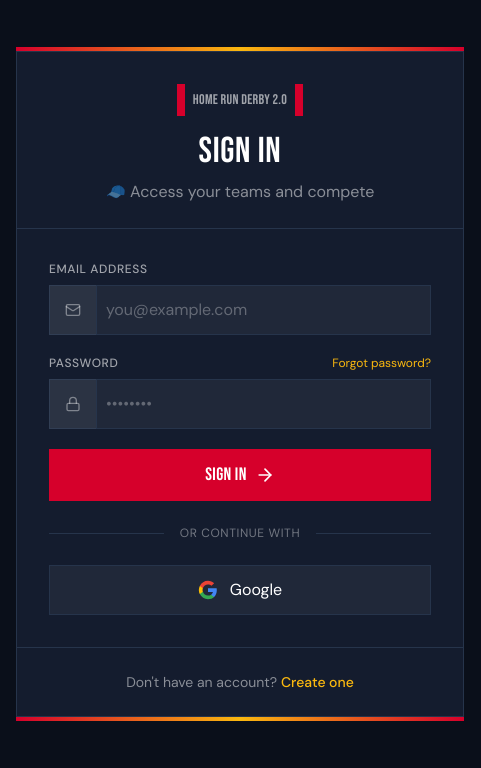
Scenario: Login Page › Login Submission › displays error message on login failure
Type "test@example.com" into the field labelled "Email Address".
click(240, 310); type("test@example.com")  # box [49, 285, 431, 335]
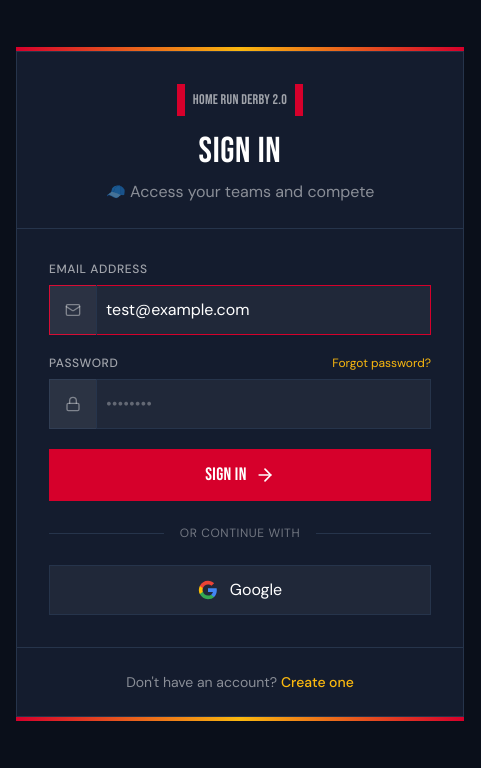
Type "wrongpassword" into the password field labelled "Password".
click(240, 404); type("wrongpassword")  # box [49, 379, 431, 429]
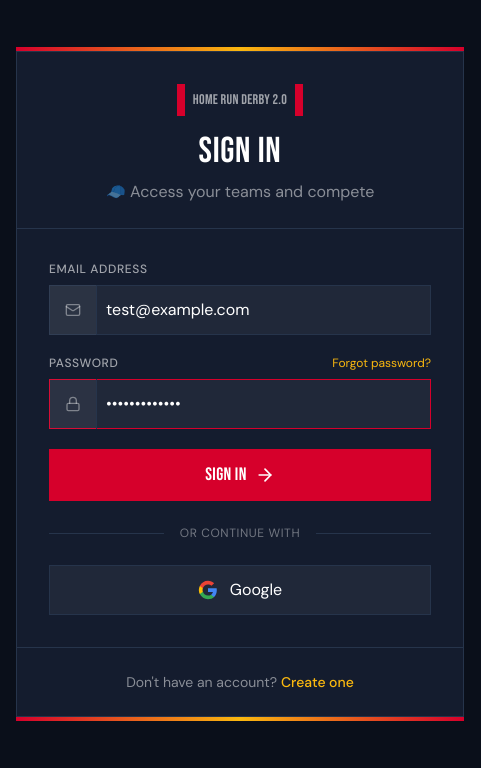
Click the button "SIGN IN".
click(240, 475)  # box [49, 449, 431, 501]
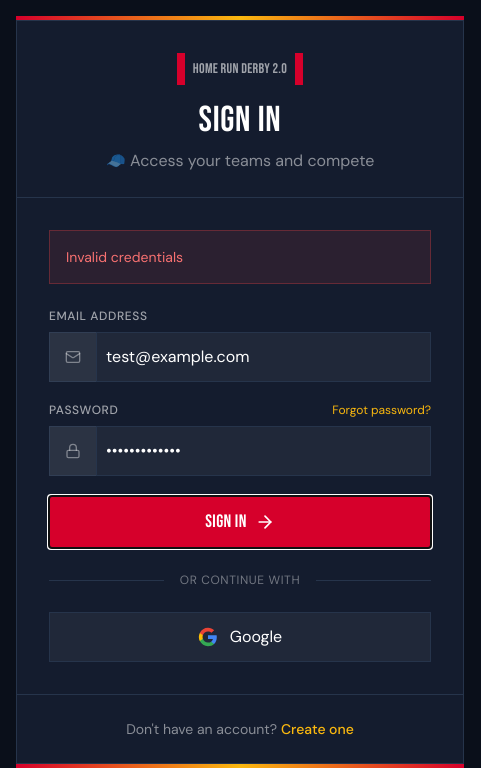
expect the text "Invalid credentials" is shown: met, box [66, 248, 183, 266]
